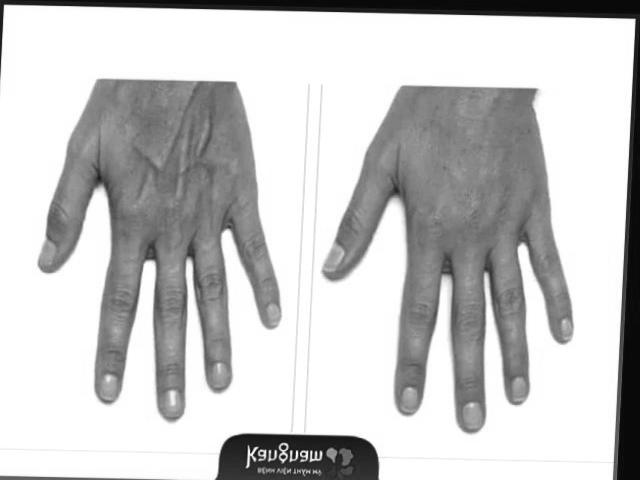not-gloved: (324, 98, 578, 435), (34, 98, 284, 420)
